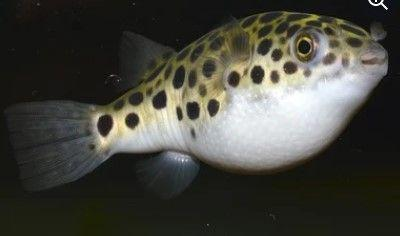Green Spotted Puffer: (6, 8, 391, 204)
